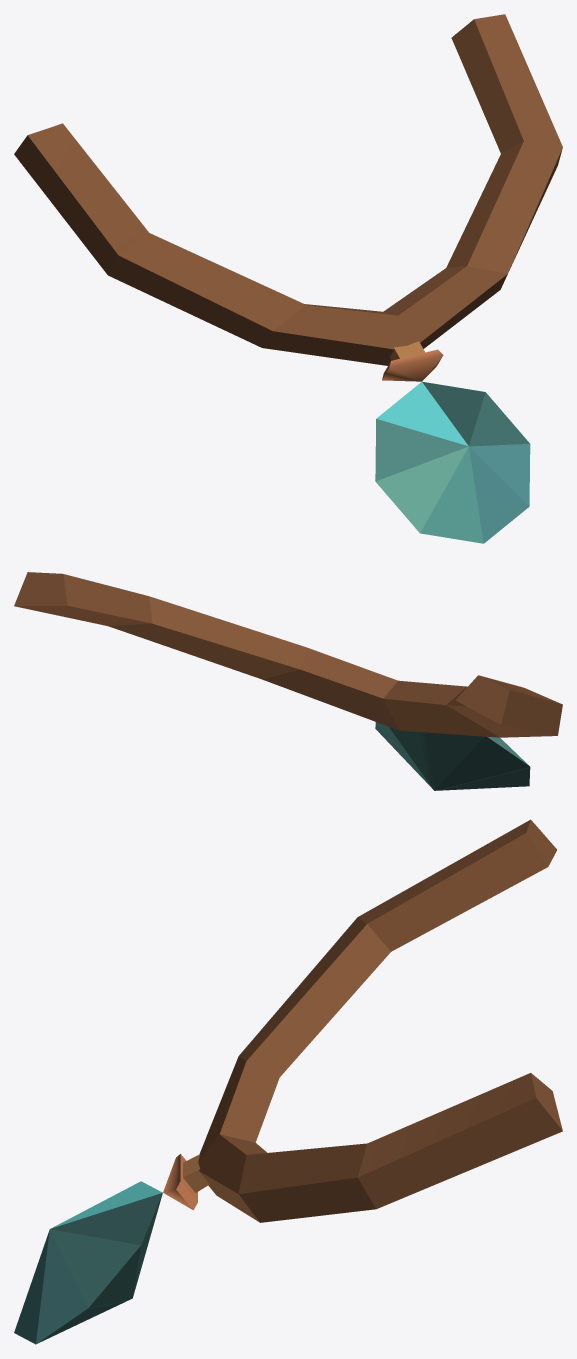
The model's file is Prop.Necklace_02.fbx.
3 renders of one model, top to bottom at view 1: azimuth 30°, elevation 25°; view 2: azimuth 150°, elevation 25°; view 3: azimuth 270°, elevation 25°, orthographic. The views are drawn at different scales.
Parts seen in each view (by area): view 1: Prop_Necklace_02; view 2: Prop_Necklace_02; view 3: Prop_Necklace_02.
Boxes of the visible parts, box(x1,y1,x2,y2) form: Prop_Necklace_02: box(14, 14, 562, 543); Prop_Necklace_02: box(14, 572, 562, 790); Prop_Necklace_02: box(14, 819, 562, 1344).
Size of the model in its own units: 17.17 by 10.72 by 14.02.
